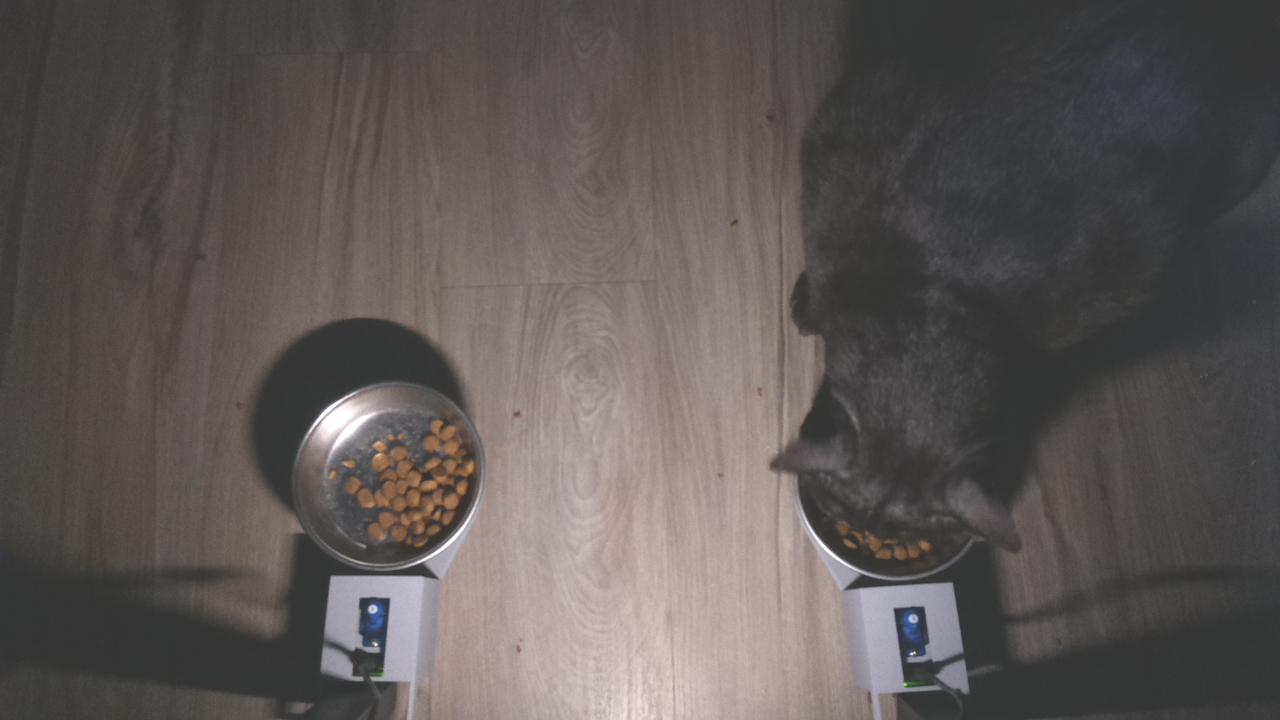open_bowl: (285, 375, 499, 586)
saki_eating: (745, 327, 1056, 572)
